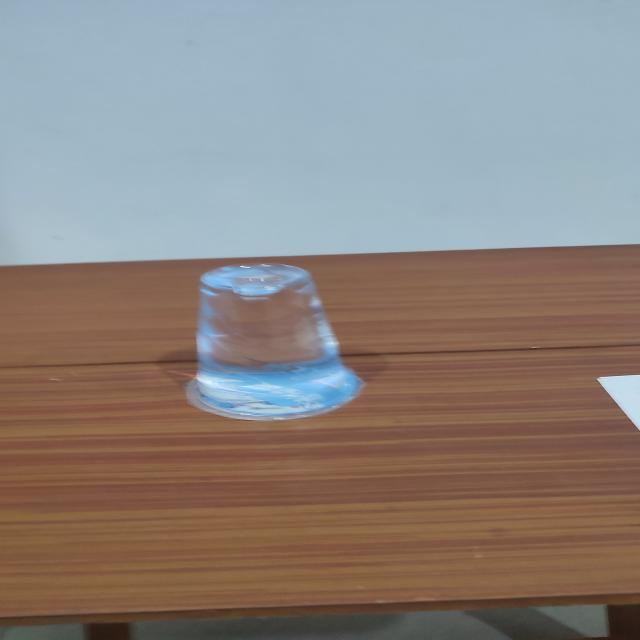air gelas: (164, 255, 383, 419)
